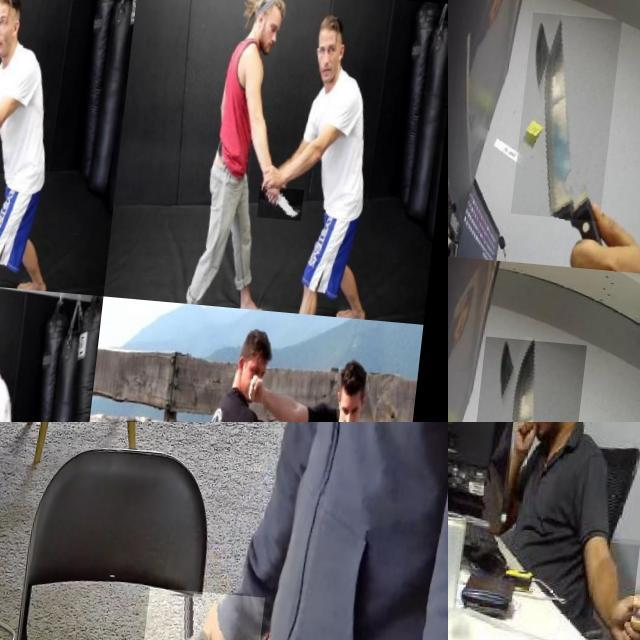-: (517, 5, 624, 212), (477, 328, 596, 422), (448, 361, 537, 422), (262, 178, 309, 212), (0, 153, 23, 192), (448, 210, 464, 236)
gun-knife-thesis - v11 Yolov5 augmented: (140, 583, 271, 640)
